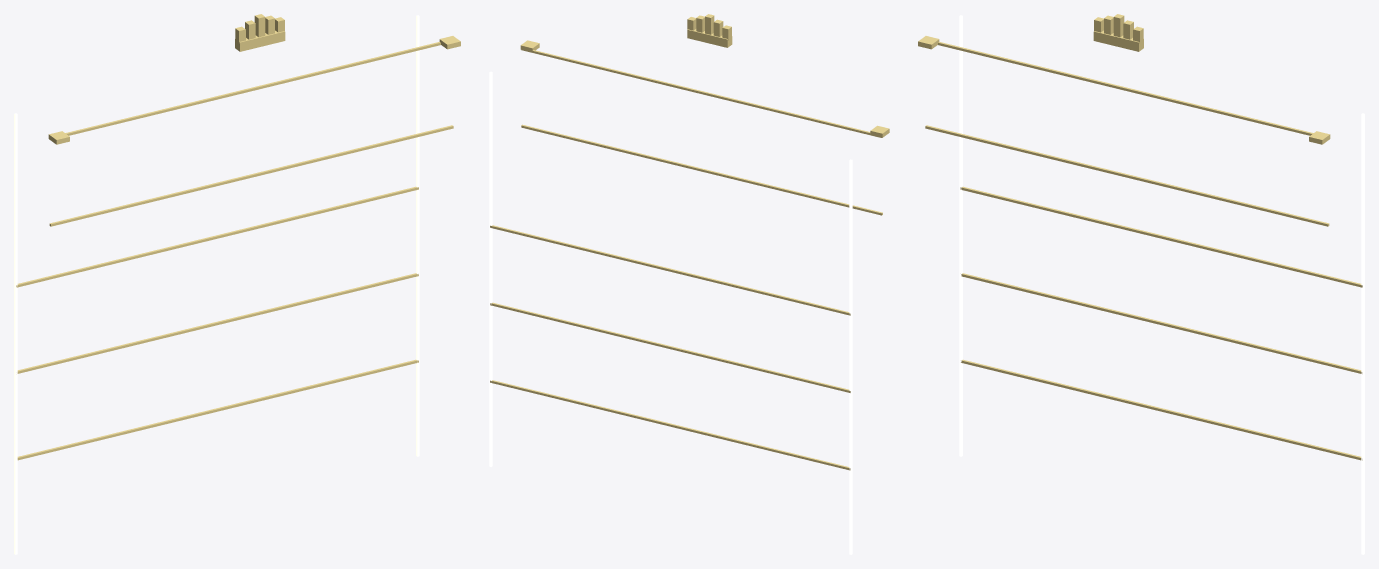
The model's file is PrestigeTrims.glb.
3 views of the same model, side by side, from view 1: azimuth 30°, elevation 25°; view 2: azimuth 150°, elevation 25°; view 3: azimuth 330°, elevation 25° (orthographic). The views are drawn at different scales.
Visible parts, largest first — view 1: PrestigeTrims_0, PrestigeTrims_1; view 2: PrestigeTrims_0, PrestigeTrims_1; view 3: PrestigeTrims_0, PrestigeTrims_1.
Part boxes in pixels (left/top/right/bottom): PrestigeTrims_0: left=16, top=14, right=460, bottom=460; PrestigeTrims_1: left=14, top=15, right=419, bottom=554; PrestigeTrims_0: left=490, top=14, right=889, bottom=470; PrestigeTrims_1: left=489, top=71, right=852, bottom=554; PrestigeTrims_0: left=918, top=14, right=1362, bottom=460; PrestigeTrims_1: left=959, top=15, right=1364, bottom=554.
Size of the model in its own units: 53.8 by 66.2 by 10.7.
